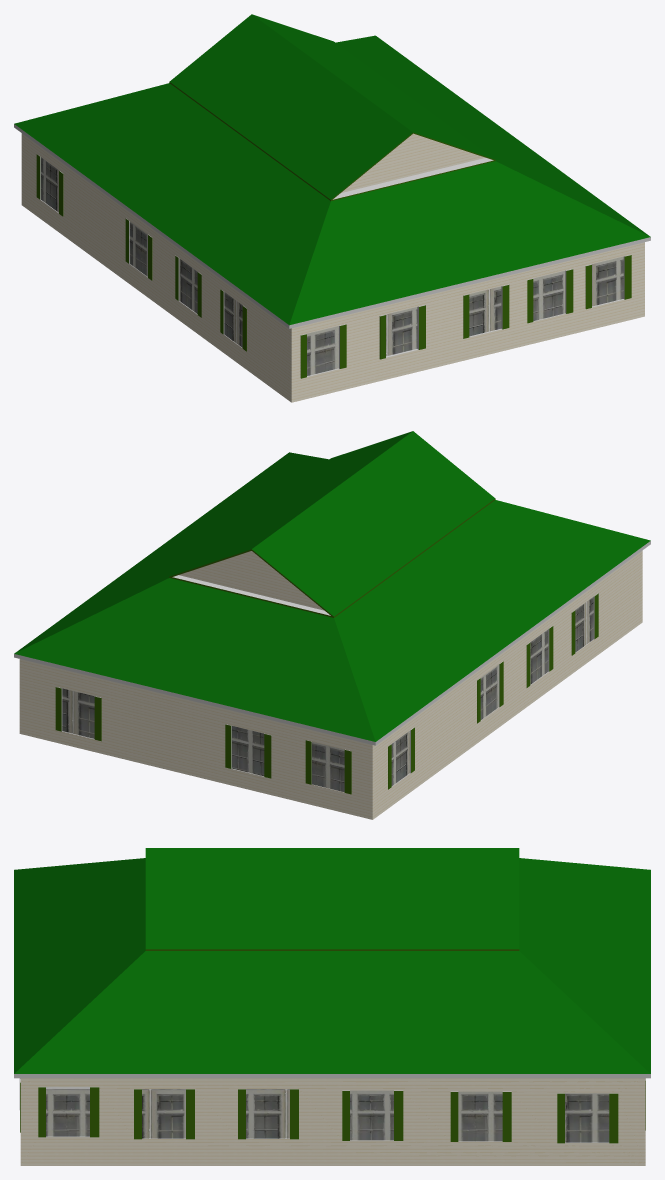
The model's file is DarienParkBuilding.fbx.
The picture shows the model from 3 angles, top to bottom: view 1: azimuth 30°, elevation 25°; view 2: azimuth 150°, elevation 25°; view 3: azimuth 270°, elevation 25°; orthographic projection. The views are drawn at different scales.
Visible parts, largest first — view 1: Model; view 2: Model; view 3: Model.
Boxes of the visible parts, x1,y1,x2,y2 form: Model: (14,14,650,402); Model: (14,431,650,819); Model: (14,848,650,1165).
Size of the model in its own units: 12.99 by 6.45 by 17.13.
